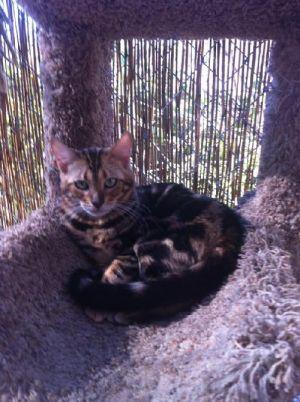bengal: (36, 117, 147, 224)
